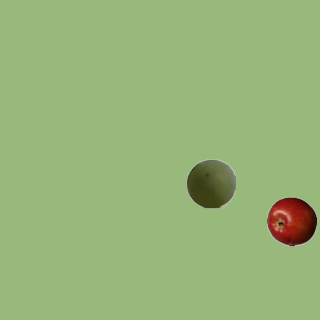Apple Braeburn: (266, 196, 316, 246)
Grape White 4: (185, 158, 235, 208)
